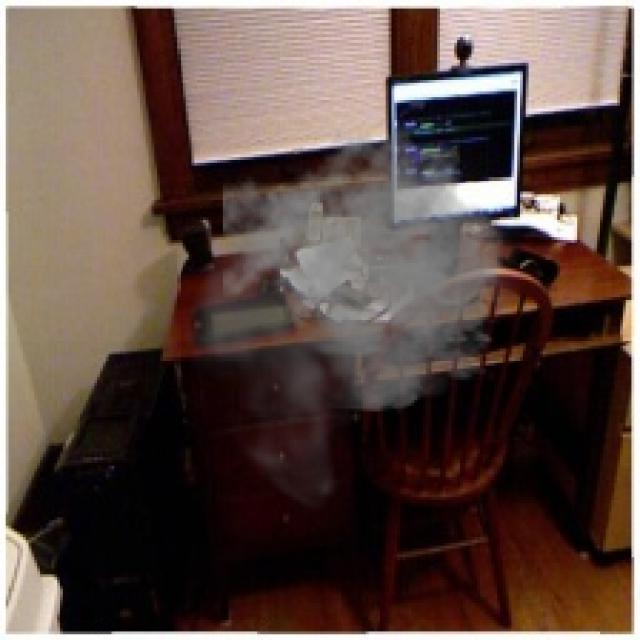Smoke: (180, 122, 529, 514)
